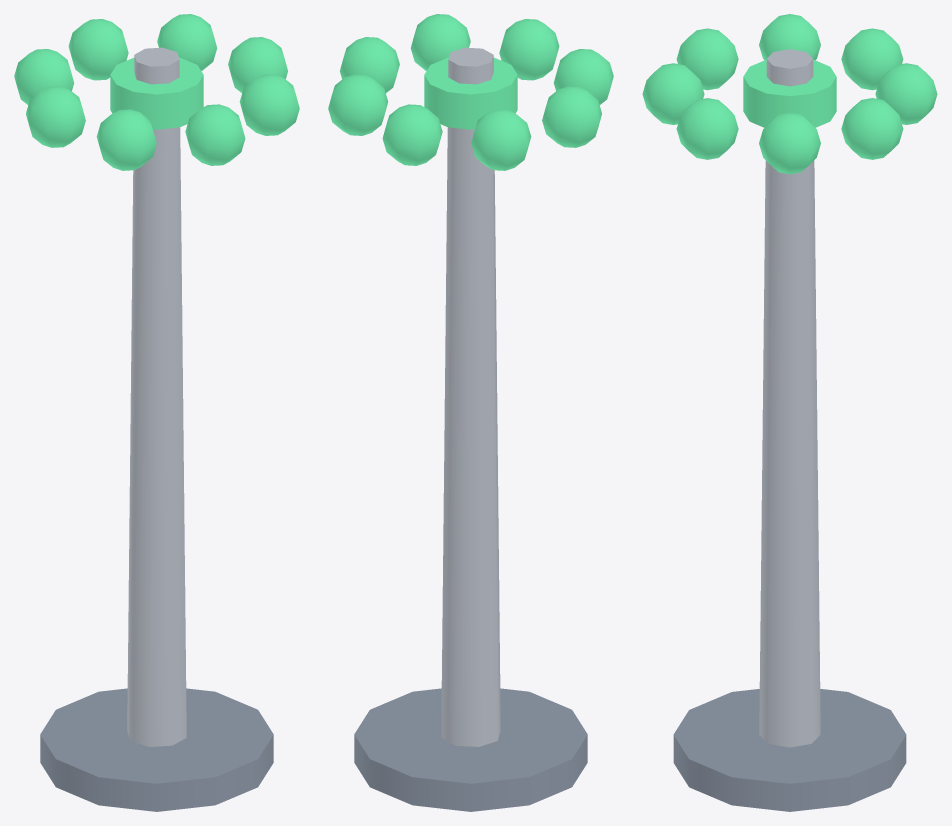
Rendered from acoustic.glb.
The picture shows the model from 3 angles, left to right: view 1: azimuth 30°, elevation 25°; view 2: azimuth 150°, elevation 25°; view 3: azimuth 270°, elevation 25°; orthographic projection.
Size of the model in its own units: 0.38 by 1 by 0.38.
